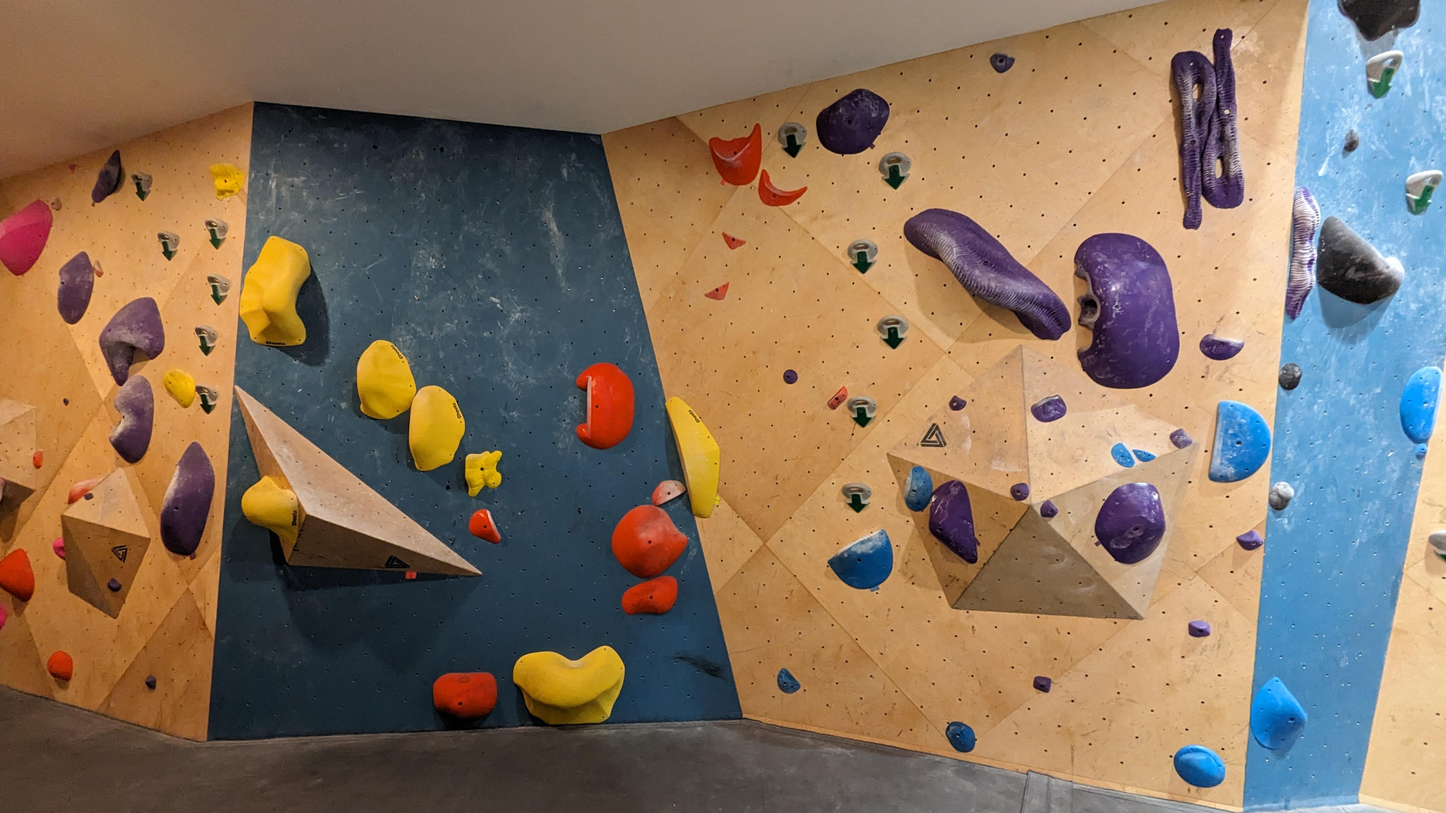hold: (903, 208, 1071, 341), (1074, 232, 1180, 389), (512, 645, 626, 725), (1171, 51, 1217, 231), (1316, 215, 1406, 305), (239, 235, 311, 346), (1201, 28, 1245, 209), (664, 396, 720, 518), (160, 441, 215, 556), (98, 297, 165, 387), (1094, 482, 1166, 565), (611, 505, 688, 579), (1208, 400, 1272, 483), (575, 362, 635, 450), (409, 385, 466, 472), (816, 88, 890, 155), (356, 339, 417, 420), (1285, 186, 1321, 320), (1251, 676, 1308, 751), (928, 479, 978, 564), (241, 475, 299, 548), (827, 528, 894, 590), (0, 199, 53, 277), (109, 375, 154, 464), (1336, 0, 1421, 43), (1399, 366, 1443, 444), (709, 123, 762, 186), (432, 672, 497, 720), (57, 251, 95, 325), (1173, 744, 1226, 788), (621, 575, 679, 615), (1365, 50, 1404, 101), (758, 168, 808, 207), (0, 548, 35, 602), (1404, 169, 1443, 216), (465, 450, 502, 497), (91, 149, 122, 203), (903, 465, 934, 512), (209, 164, 247, 201), (164, 368, 196, 409), (879, 151, 912, 190), (1199, 334, 1245, 361), (468, 508, 501, 544), (876, 314, 909, 350), (847, 239, 879, 275), (778, 122, 807, 159), (846, 396, 878, 429), (67, 477, 104, 505), (1030, 395, 1067, 423), (945, 721, 976, 753), (840, 483, 872, 514), (652, 480, 686, 506), (204, 217, 229, 251), (1268, 481, 1295, 511), (47, 651, 73, 682), (206, 274, 231, 306), (194, 325, 219, 357), (156, 231, 181, 262), (195, 384, 220, 415), (1278, 362, 1303, 391), (777, 667, 801, 695), (1111, 442, 1136, 468), (1236, 529, 1265, 551), (1428, 529, 1446, 563), (989, 53, 1016, 74), (133, 172, 153, 200), (703, 281, 730, 301), (1169, 428, 1194, 449), (827, 386, 848, 410), (722, 231, 746, 250), (1343, 128, 1360, 153), (1188, 620, 1211, 638), (1010, 482, 1030, 501), (52, 536, 66, 561), (1040, 500, 1059, 518), (1131, 449, 1157, 462), (1033, 676, 1052, 693), (949, 395, 967, 411), (783, 369, 799, 385), (32, 449, 44, 469), (107, 577, 122, 593), (1414, 443, 1428, 460), (93, 260, 104, 278), (0, 604, 7, 631), (51, 197, 63, 212), (145, 675, 156, 690), (84, 493, 94, 501), (63, 398, 69, 406)
volume: (885, 342, 1202, 620), (235, 385, 488, 577), (61, 467, 154, 622), (0, 396, 35, 520)
